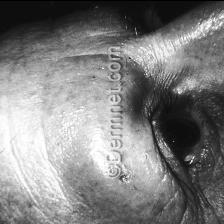Potentially Malignant Skin Tumors: (120, 168, 136, 186)
